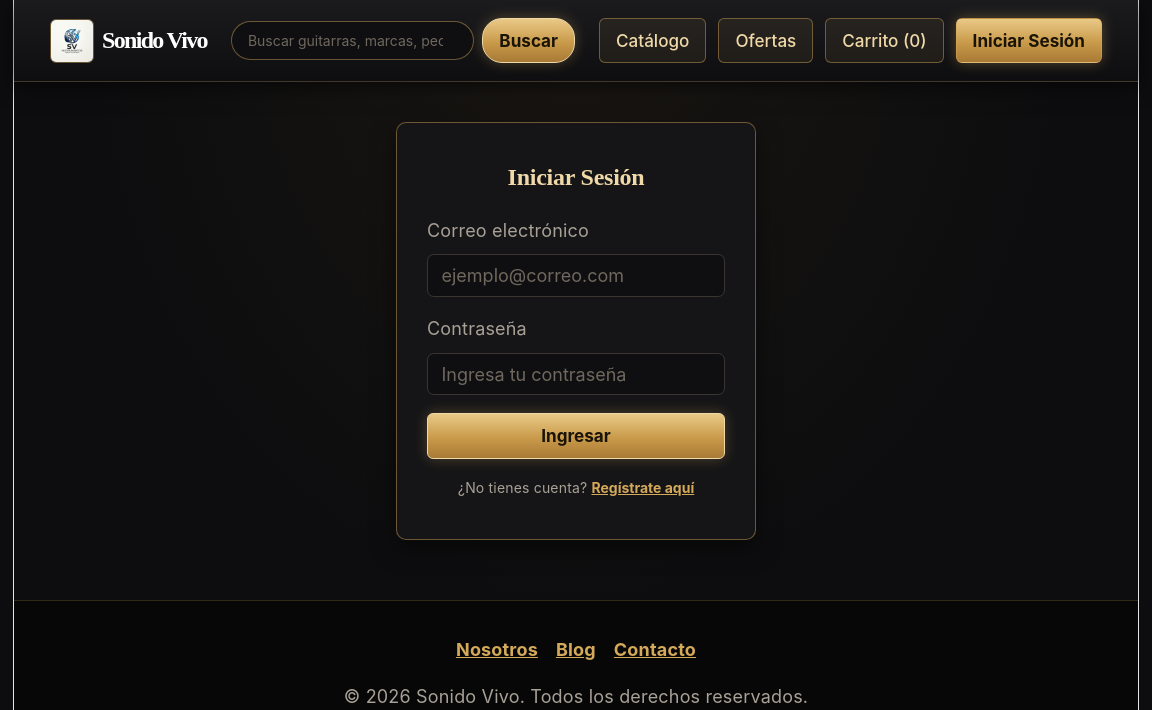
Página Login › muestra los errores de validación si se envía vacío
The image size is (1152, 710).
Step 1. Click the button "Ingresar" → point(576, 436), box x1=427 y1=413 x2=725 y2=459
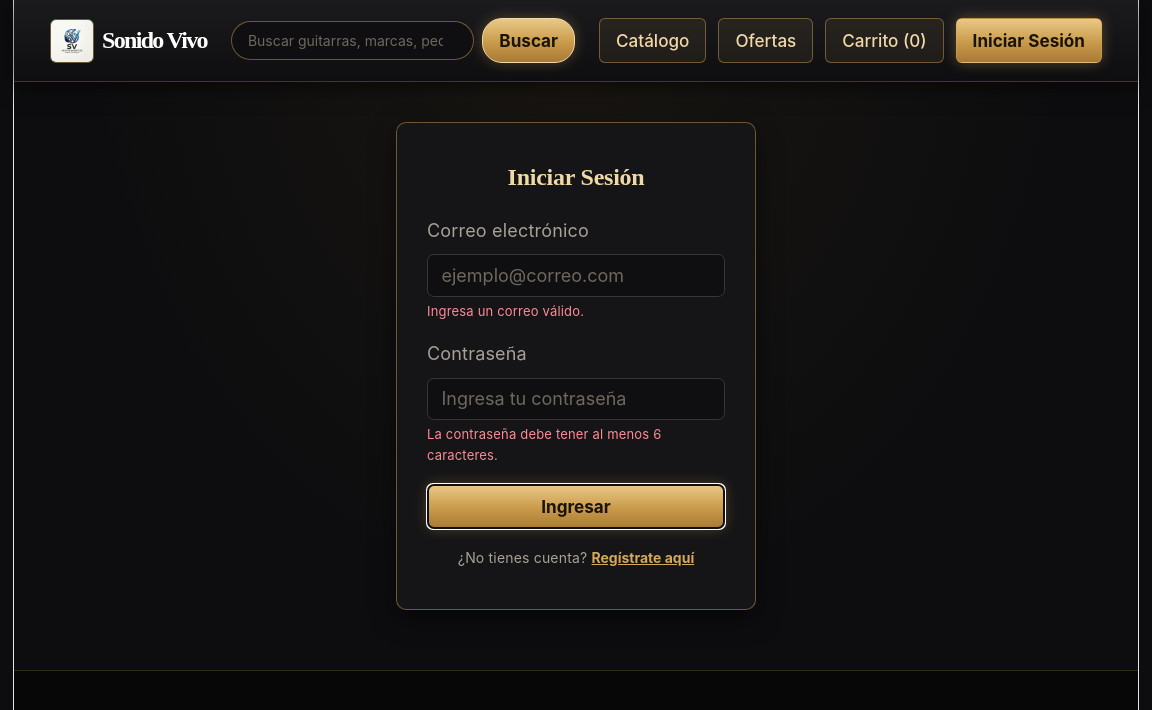
Expected: the text "Ingresa un correo válido." is shown, x1=427 y1=303 x2=584 y2=319
Expected: the text "La contraseña debe tener al menos 6 caracteres." is shown, x1=427 y1=426 x2=661 y2=463
